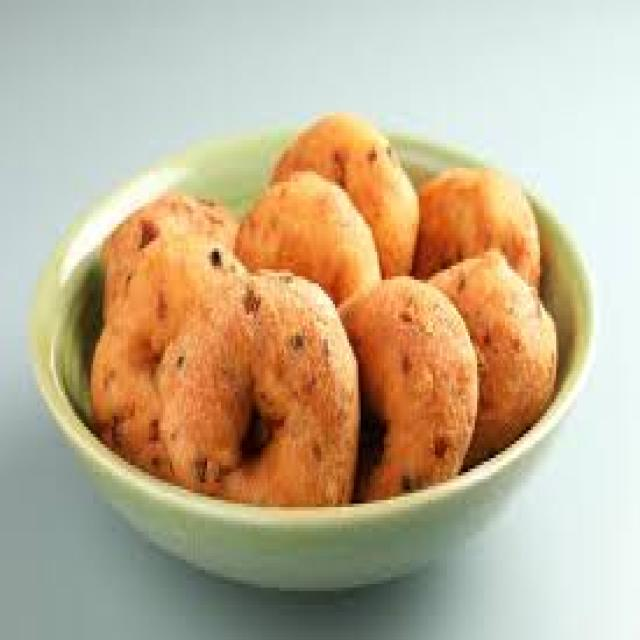MEDU VADA: (161, 273, 363, 500), (97, 235, 238, 468), (341, 276, 480, 510), (240, 119, 420, 296), (433, 250, 561, 455), (105, 194, 242, 313), (419, 167, 538, 283), (295, 173, 383, 276)
